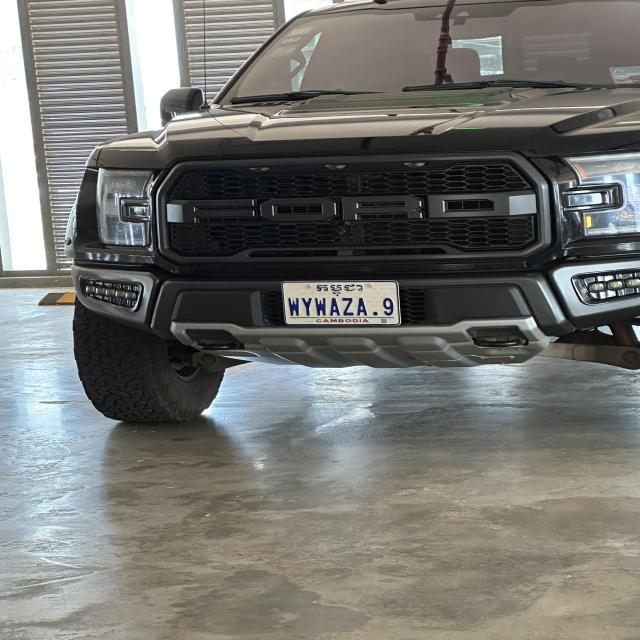Cambodia: (313, 281, 366, 297)
